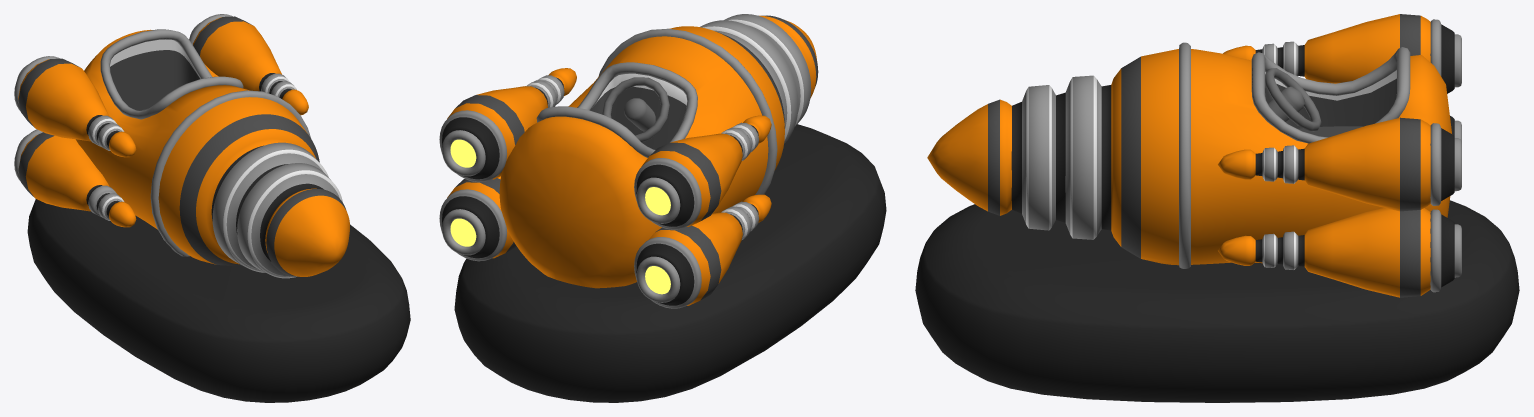
File: mesh_Car_Menu_Q.fbx
The picture shows the model from 3 angles, left to right: view 1: azimuth 30°, elevation 25°; view 2: azimuth 150°, elevation 25°; view 3: azimuth 270°, elevation 25°; orthographic projection. The views are drawn at different scales.
Parts seen in each view (by area): view 1: mesh_Car_Menu_Q; view 2: mesh_Car_Menu_Q; view 3: mesh_Car_Menu_Q.
Part boxes in pixels (<box>): mesh_Car_Menu_Q: <box>14,14,410,402</box>; mesh_Car_Menu_Q: <box>439,14,886,402</box>; mesh_Car_Menu_Q: <box>915,14,1519,402</box>.
Bounding box in the file's own units: 1.79 × 1.6 × 2.97.
